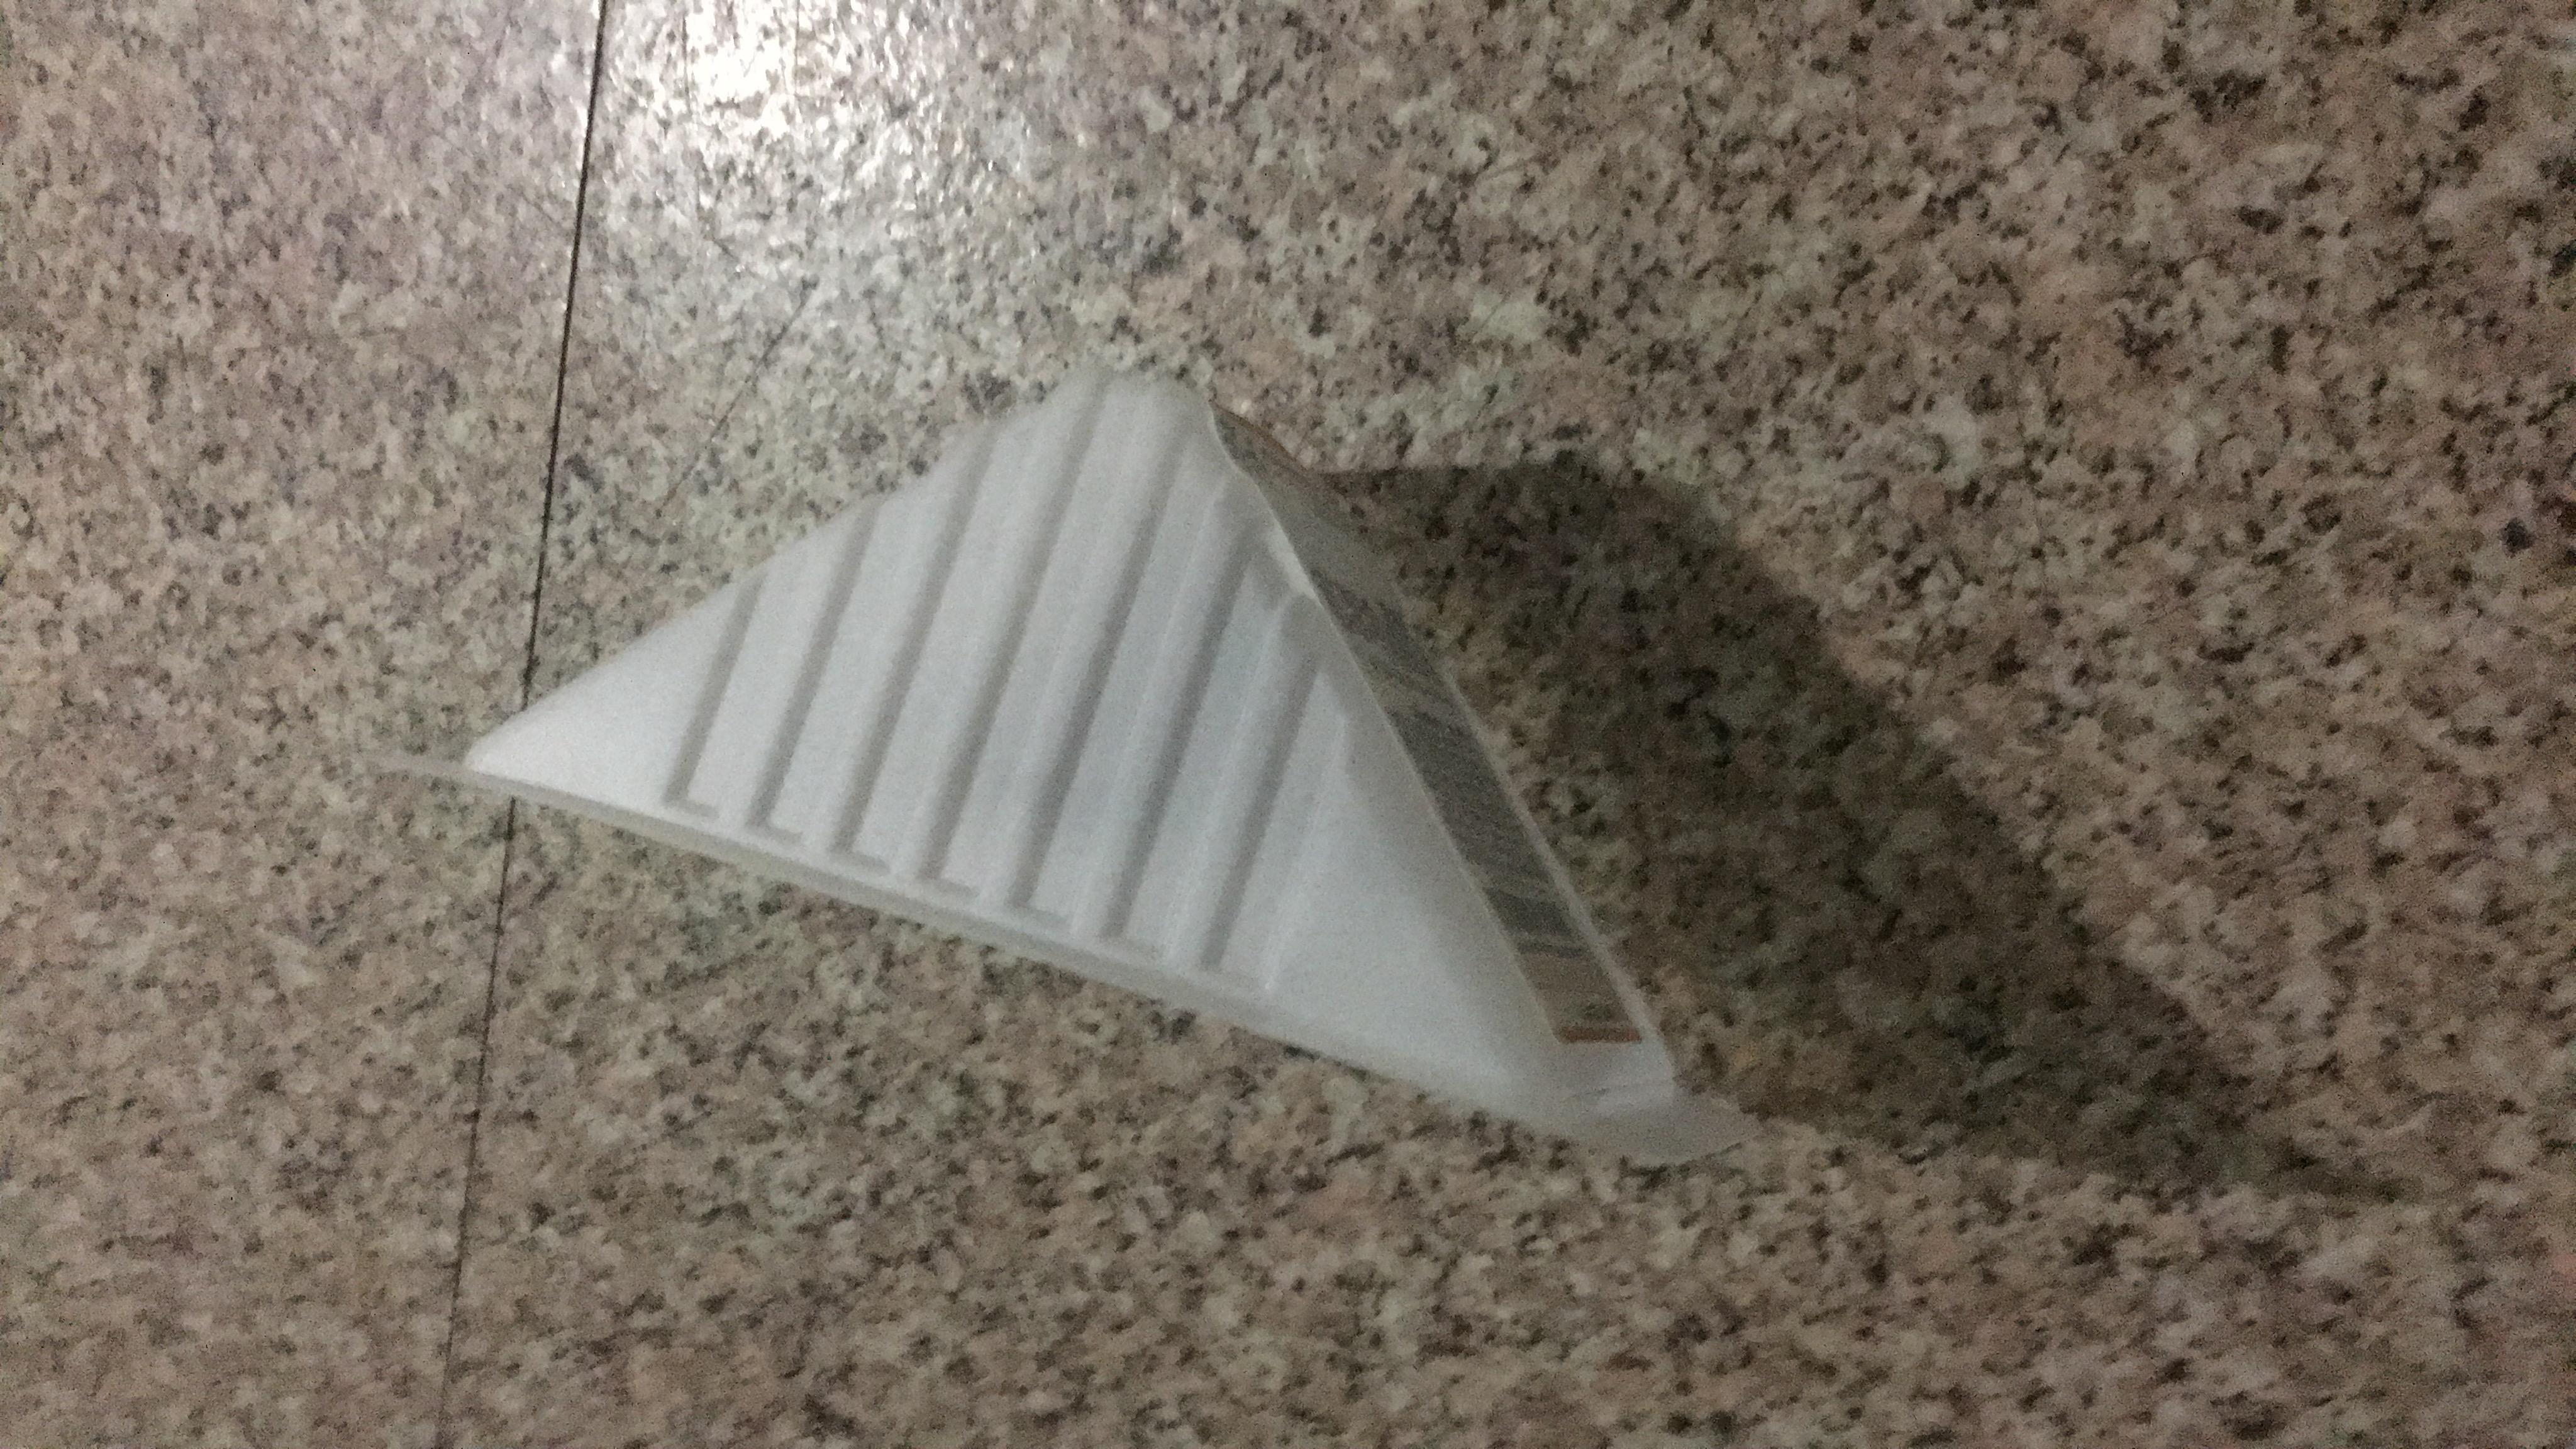bottle: (428, 200, 2017, 998)
